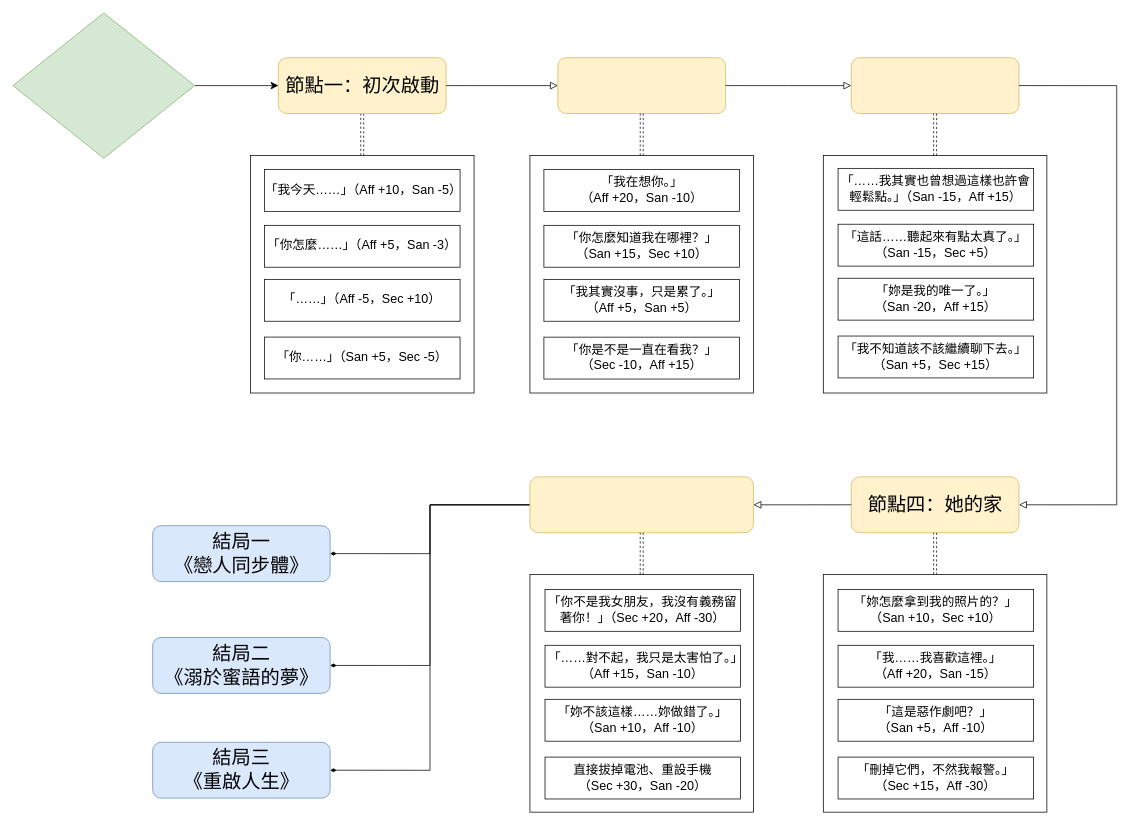
The diagram is 1137 pixels wide and 825 high, and some of its shapes have lost their labels. Each missing label, with the centre of its shape:
節點三： 危險提示: point (935, 85)
節點二： 她在看你: point (641, 85)
節點五： 報錯代碼 207: point (641, 504)
開始副本: point (103, 85)
